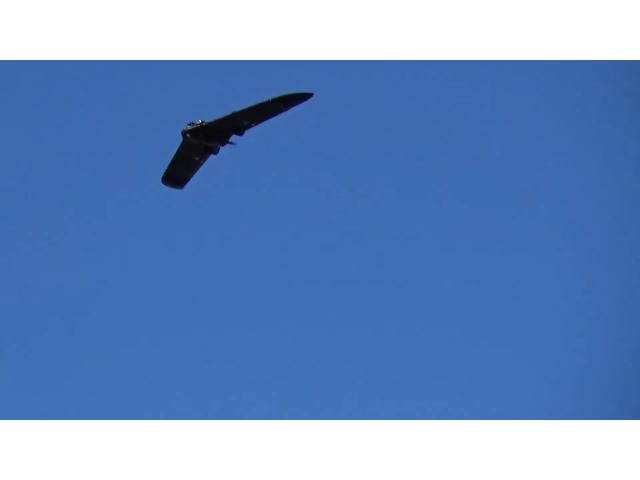Anti-Drone: (134, 71, 342, 221)
